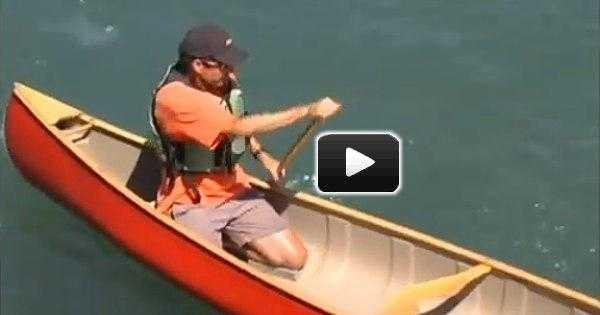kayak: (0, 81, 599, 312)
